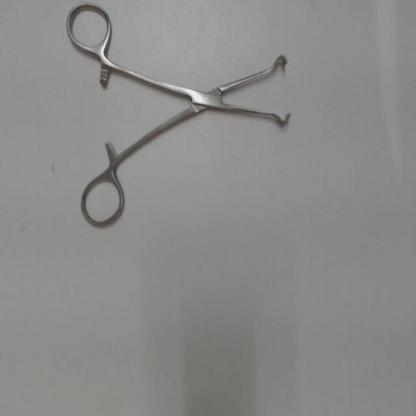Babcock Tissue Forceps: (60, 2, 296, 232)
